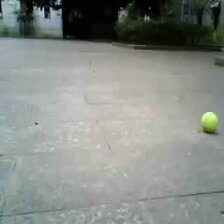tennis: (201, 112, 218, 132)
